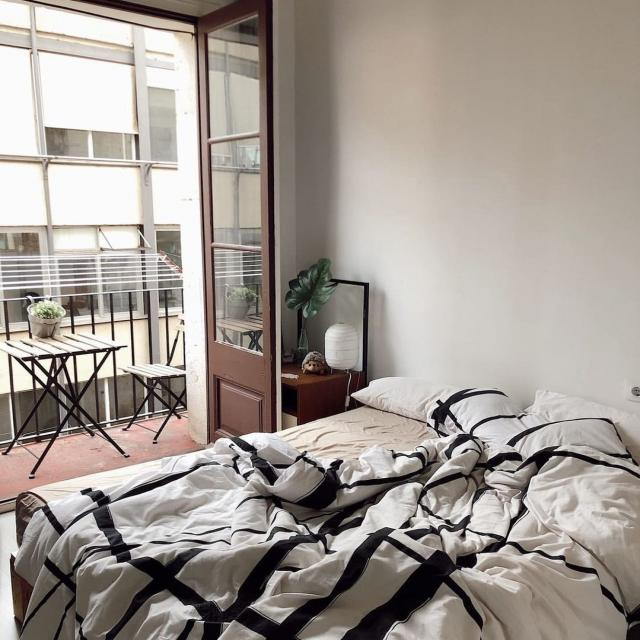bed: (41, 382, 640, 635)
